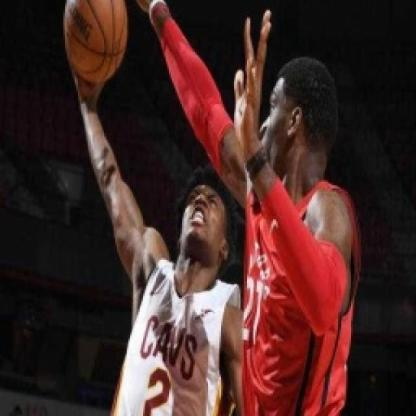basketball: (60, 0, 133, 84)
